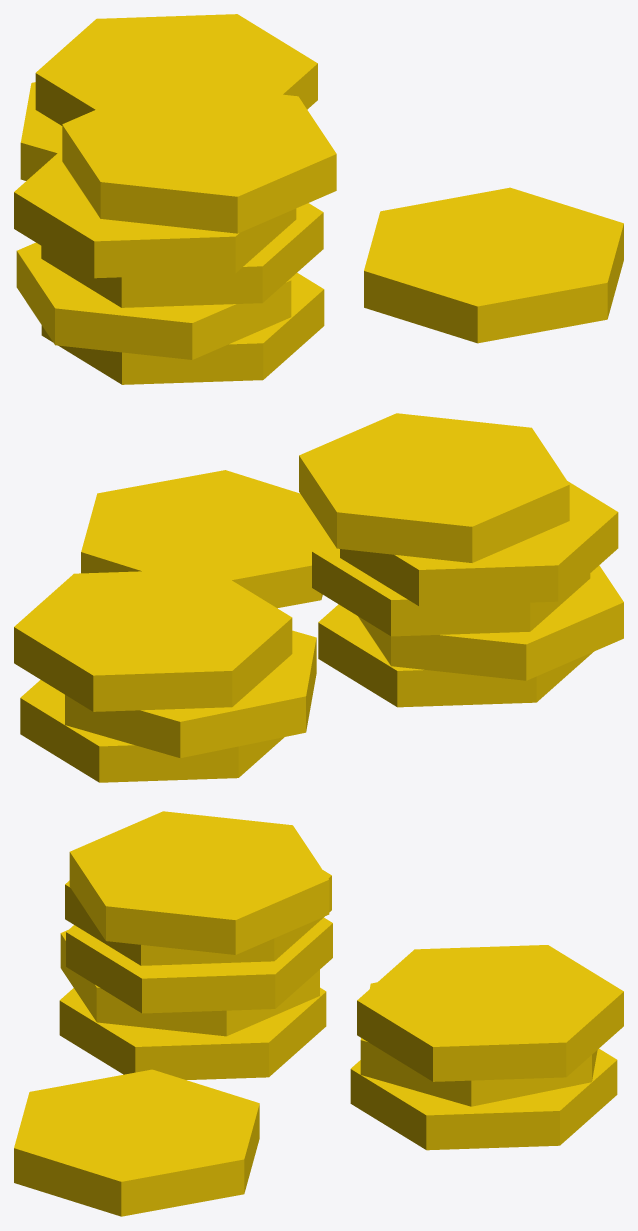
Rendered from coin2.fbx.
3 renders of one model, top to bottom at view 1: azimuth 30°, elevation 25°; view 2: azimuth 150°, elevation 25°; view 3: azimuth 270°, elevation 25°, orthographic. The views are drawn at different scales.
Parts seen in each view (by area): view 1: coin2; view 2: coin2; view 3: coin2.
Part boxes in pixels (box(x1,y1,x2,y2)): coin2: box(14, 14, 623, 384); coin2: box(14, 413, 623, 782); coin2: box(14, 811, 623, 1216).
Size of the model in its own units: 27.62 by 8.82 by 27.99.
